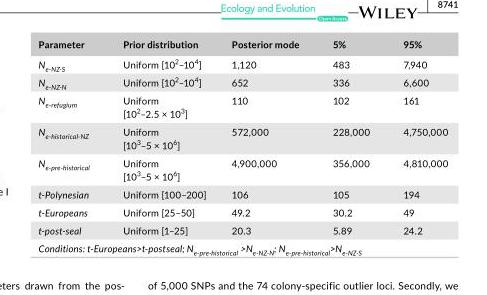table: (37, 37, 447, 255)
table column: (105, 37, 218, 255), (218, 37, 315, 255), (315, 37, 385, 255), (37, 37, 105, 255), (385, 37, 447, 255)
table column header: (37, 37, 447, 52)
table projected row header: (37, 238, 447, 255)
table row: (37, 122, 447, 153), (37, 153, 447, 184), (37, 92, 447, 122), (37, 52, 447, 73), (37, 73, 447, 92), (37, 184, 447, 202), (37, 202, 447, 220), (37, 220, 447, 238), (37, 238, 447, 255), (37, 37, 447, 52)
